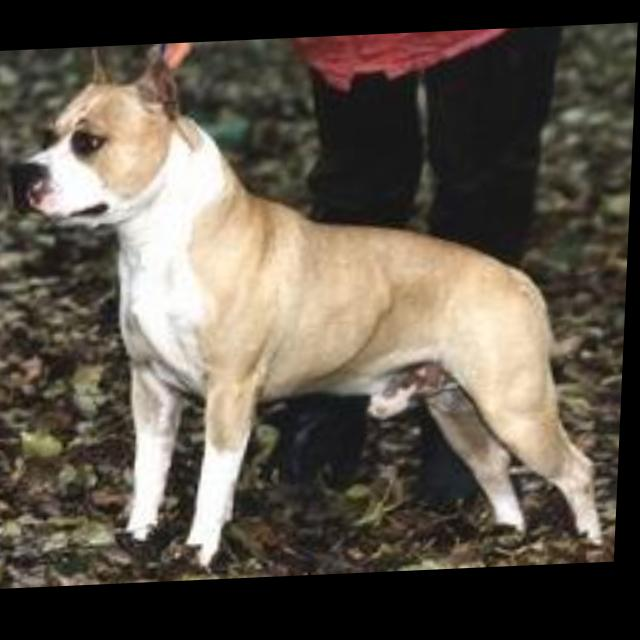amstaff: (1, 30, 627, 582)
